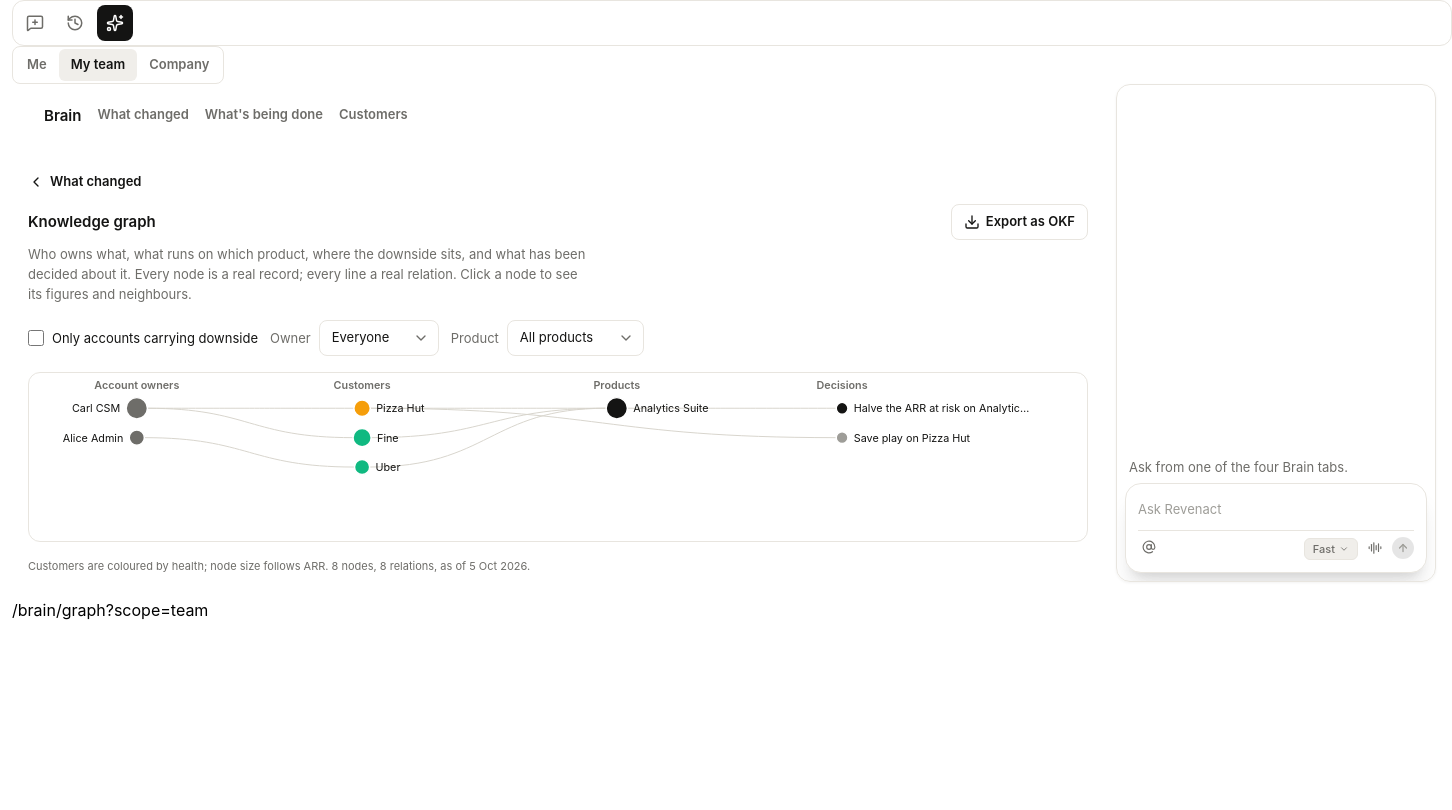
Test: Knowledge graph (customers spec §2.2, Decision 5) › reads again on a switch and draws only the new scope
Check: the button "customer Pizza Hut" is shown, box [376,402,424,415]
Click the button "Me": {"x": 37, "y": 65} [15,49,59,81]
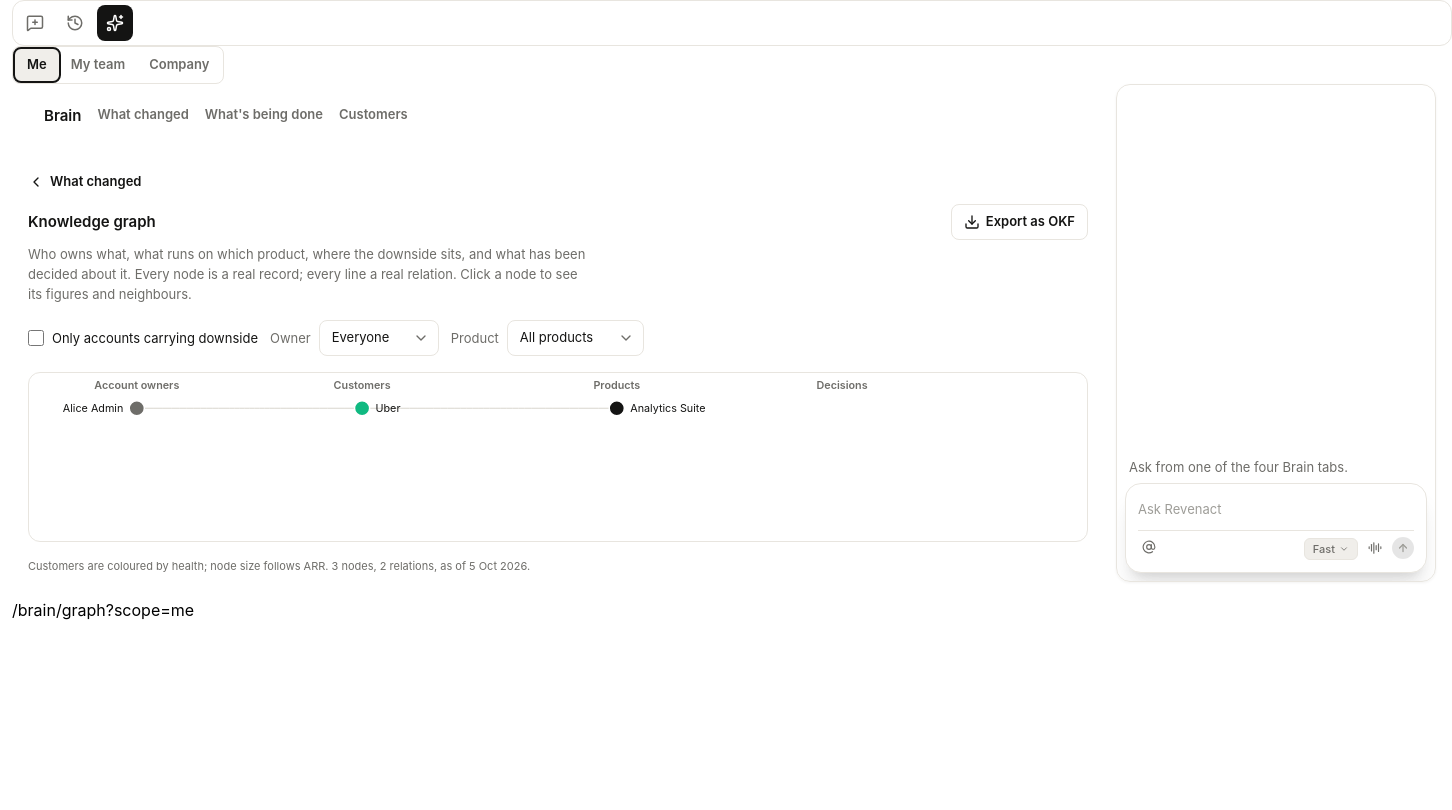
Check: the text "3 nodes, 2 relations" is shown, box [332,560,434,574]
